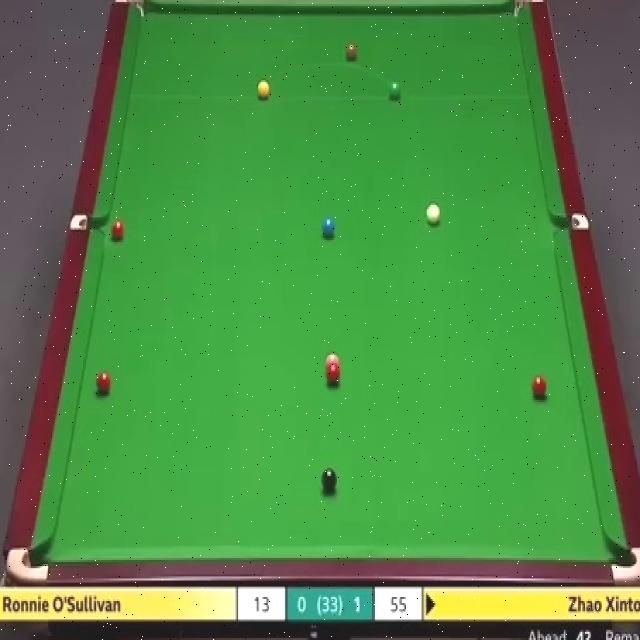black-ball: (320, 468, 338, 494)
blue-ball: (322, 216, 336, 238)
brown-ball: (345, 42, 358, 62)
green-ball: (388, 80, 401, 100)
pink-ball: (324, 353, 341, 367)
red-ball: (96, 369, 112, 396), (531, 373, 547, 399), (324, 364, 342, 386), (108, 219, 125, 242)
white-ball: (424, 201, 442, 227)
yellow-ball: (259, 82, 272, 102)
